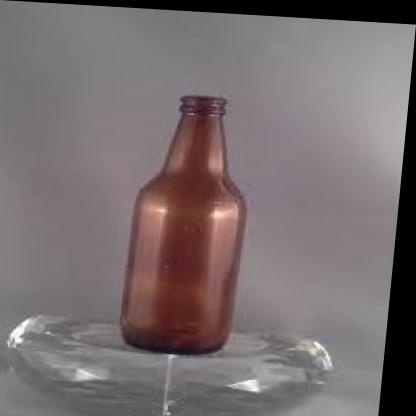trash: (121, 96, 245, 352)
